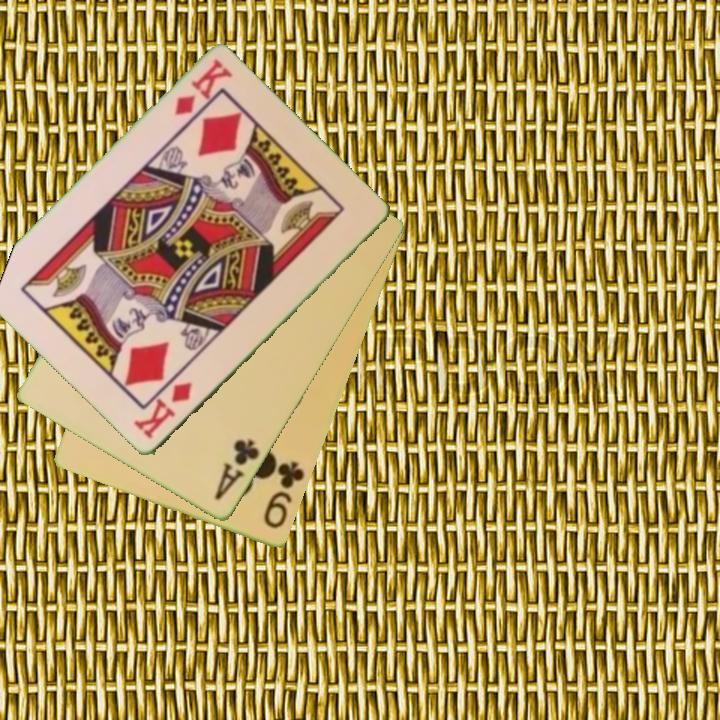9c: (260, 458, 308, 532)
Ac: (211, 436, 263, 504)
Kd: (131, 378, 196, 443), (170, 56, 235, 119)
